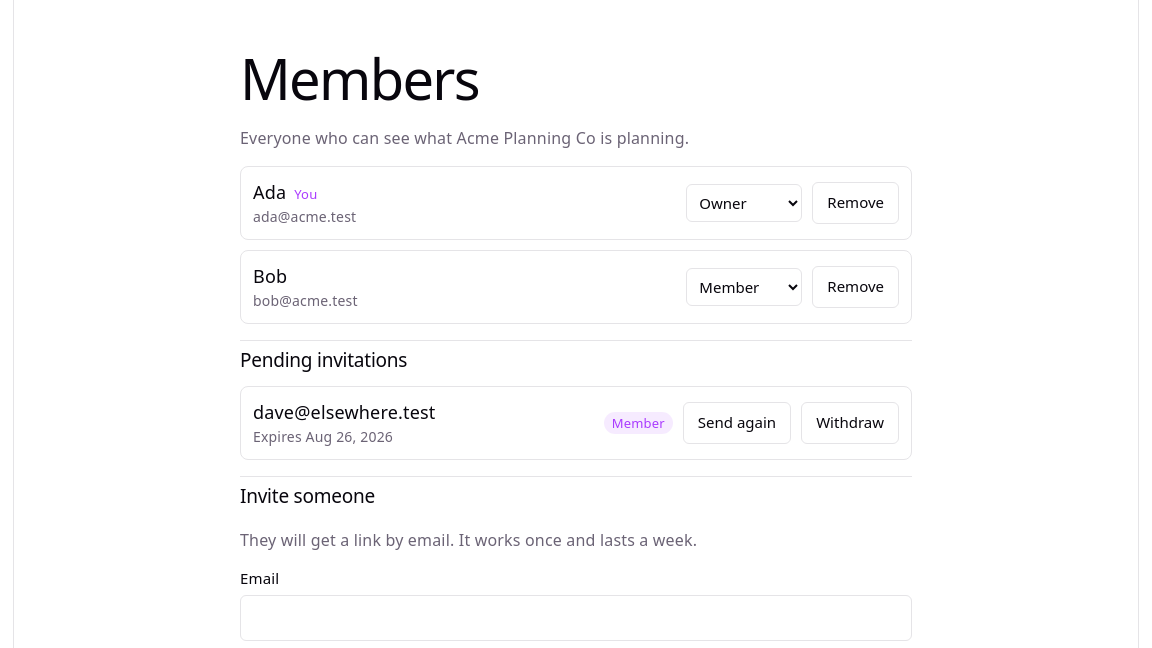
Scenario: MembersPage › asks before removing somebody
This screenshot has width=1152, height=648.
Expected: the text "Ada" is shown, [253, 180, 286, 204]
Click the button with aria-label "Remove Bob".
click(856, 287)  # box [812, 266, 899, 308]
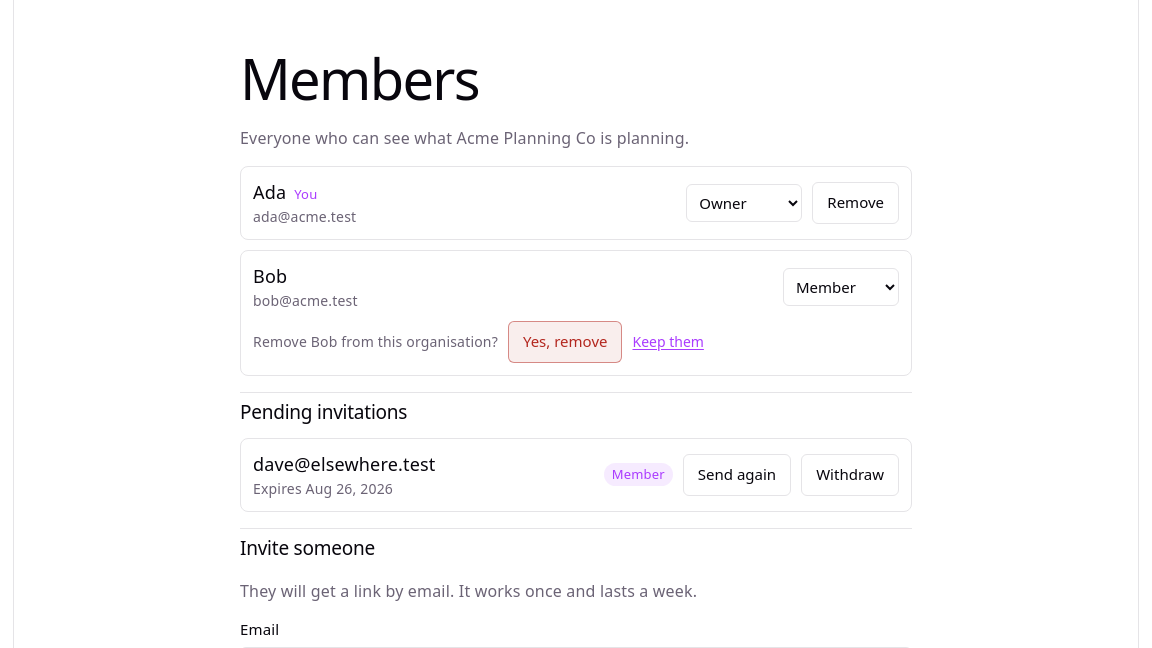
Result: the text "Remove Bob from this organisation?" is shown at [253, 332, 498, 352]
